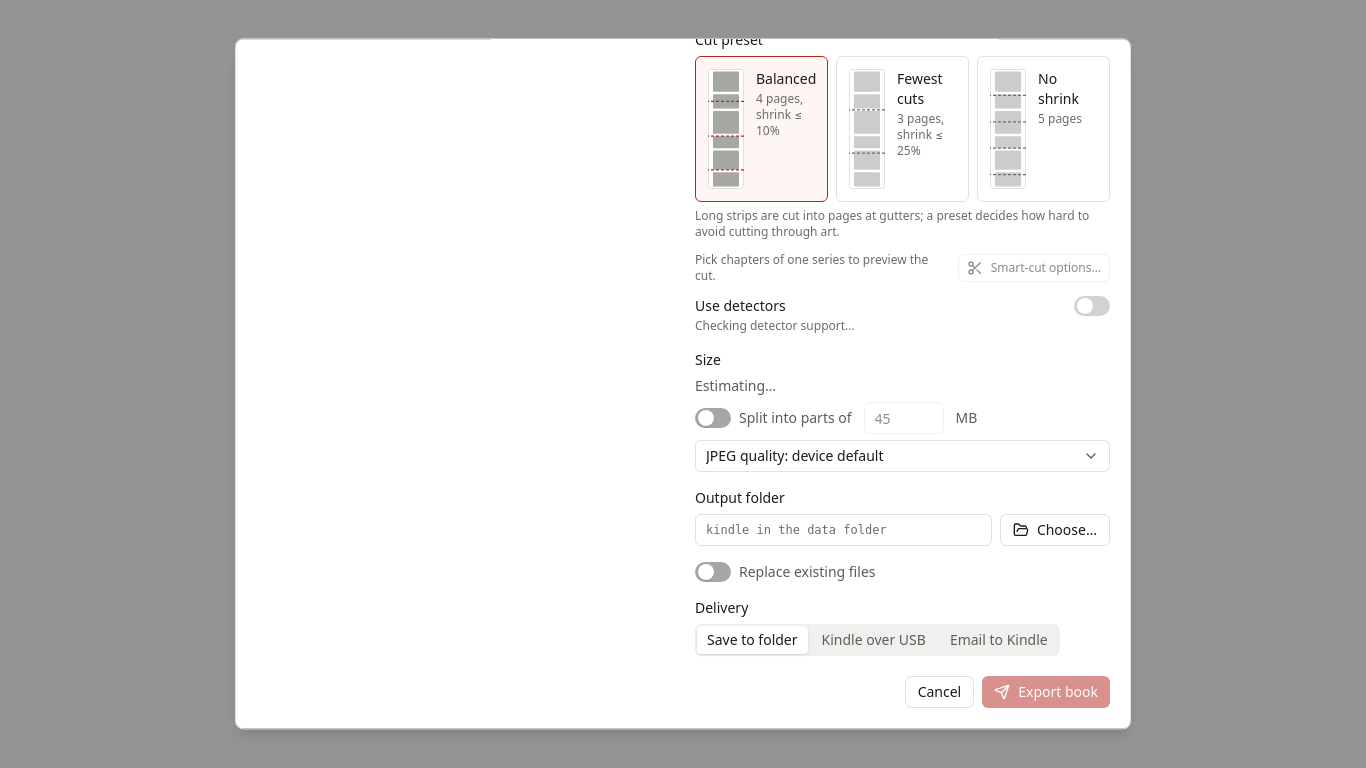
Test: export dialog: the Kindle format follows the delivery › from Save to folder, a picked AZW3 (Kindle) goes by Email as an EPUB, saying why
Later steps or results of the test are not shown.
(page scrolled)
Press the mouse on the tab "Save to folder" at (752, 640), box [697, 626, 808, 654]
(page scrolled)
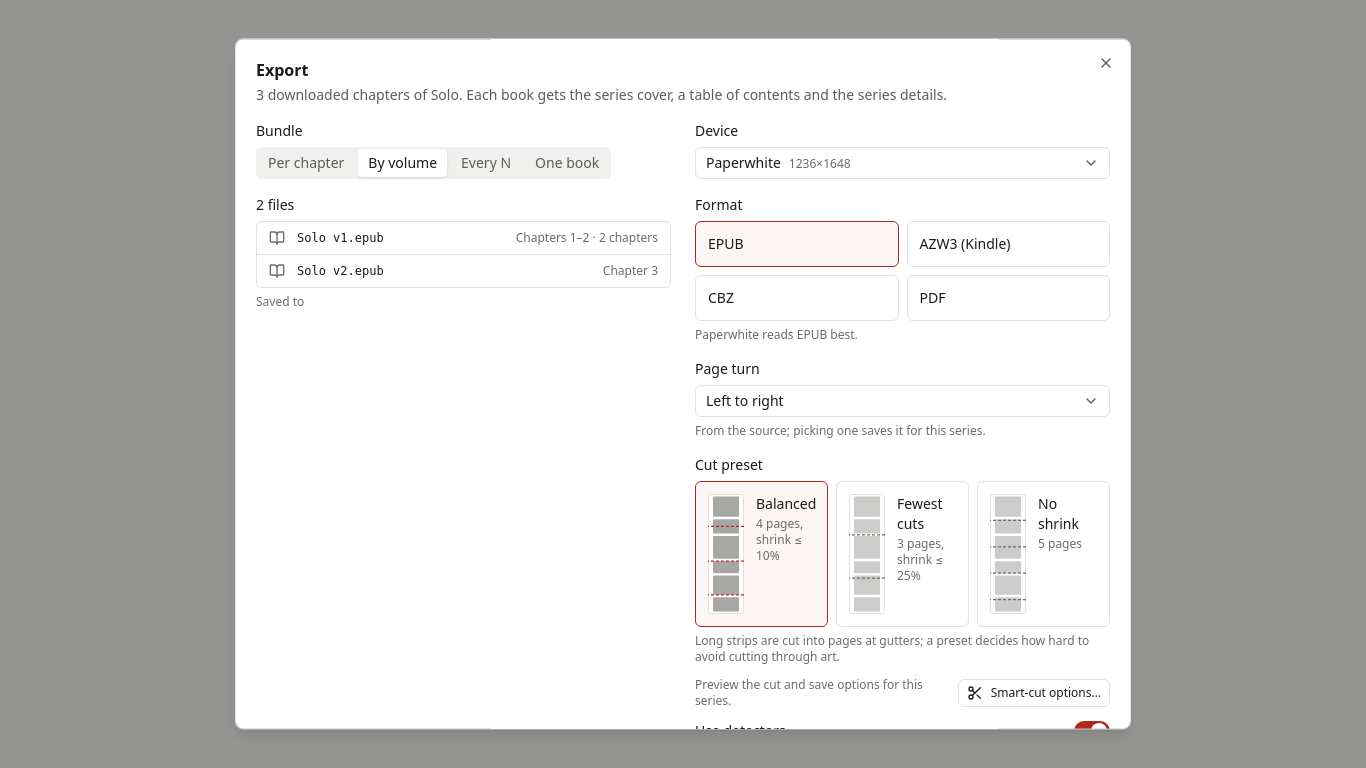
# PDF first, so the pick is the user's even where the route already gave AZW3.
Click the radio button labelled "PDF" at (1008, 298), box [906, 275, 1110, 321]
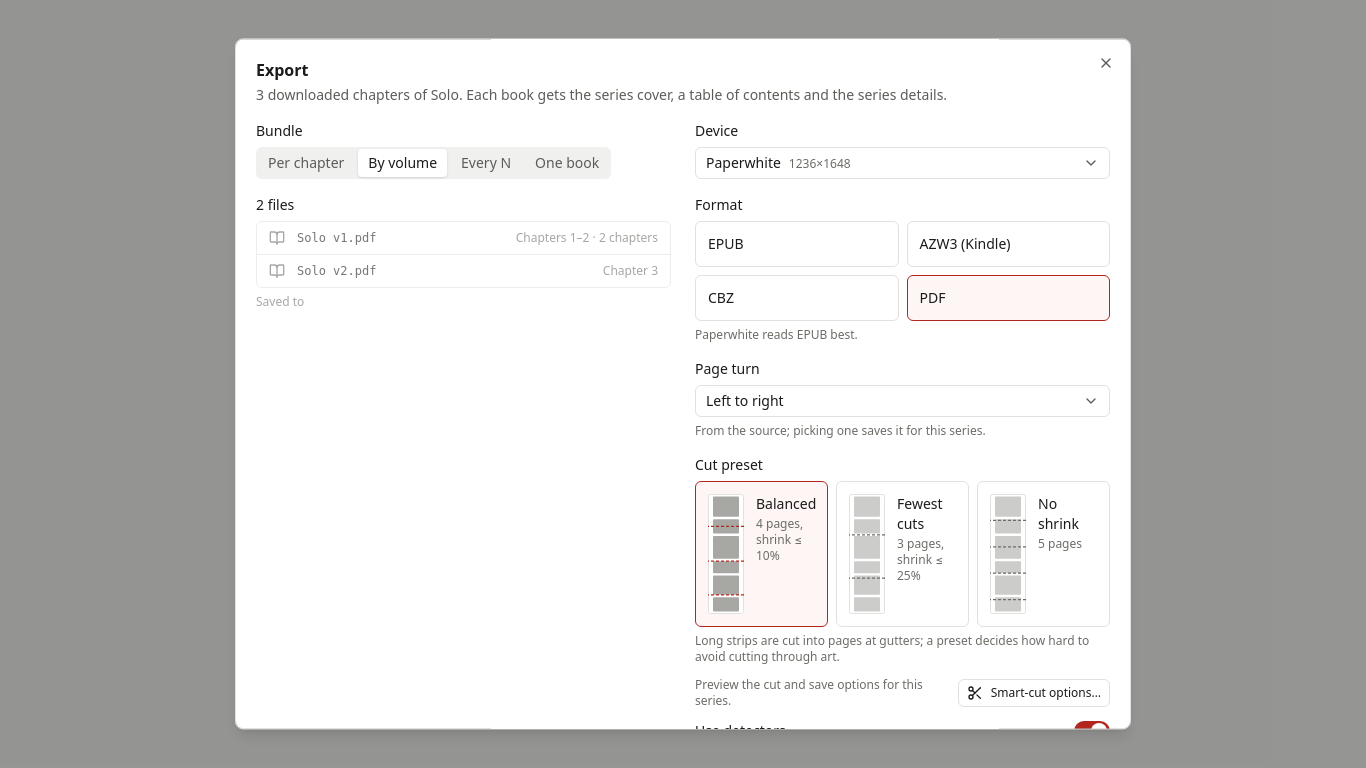
Click the radio button labelled "AZW3 (Kindle)" at (1008, 244), box [906, 221, 1110, 267]
(page scrolled)
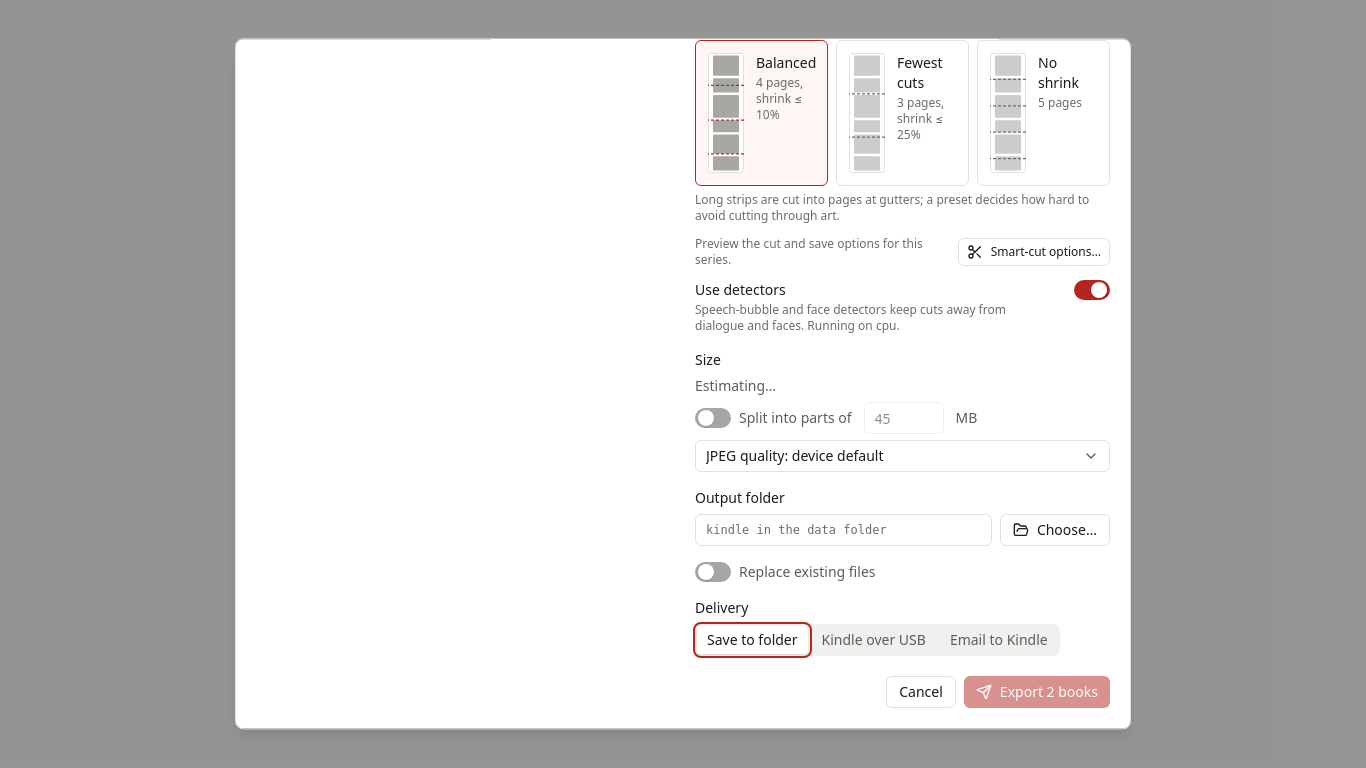
Press the mouse on the tab "Email to Kindle" at (999, 640), box [940, 626, 1058, 654]
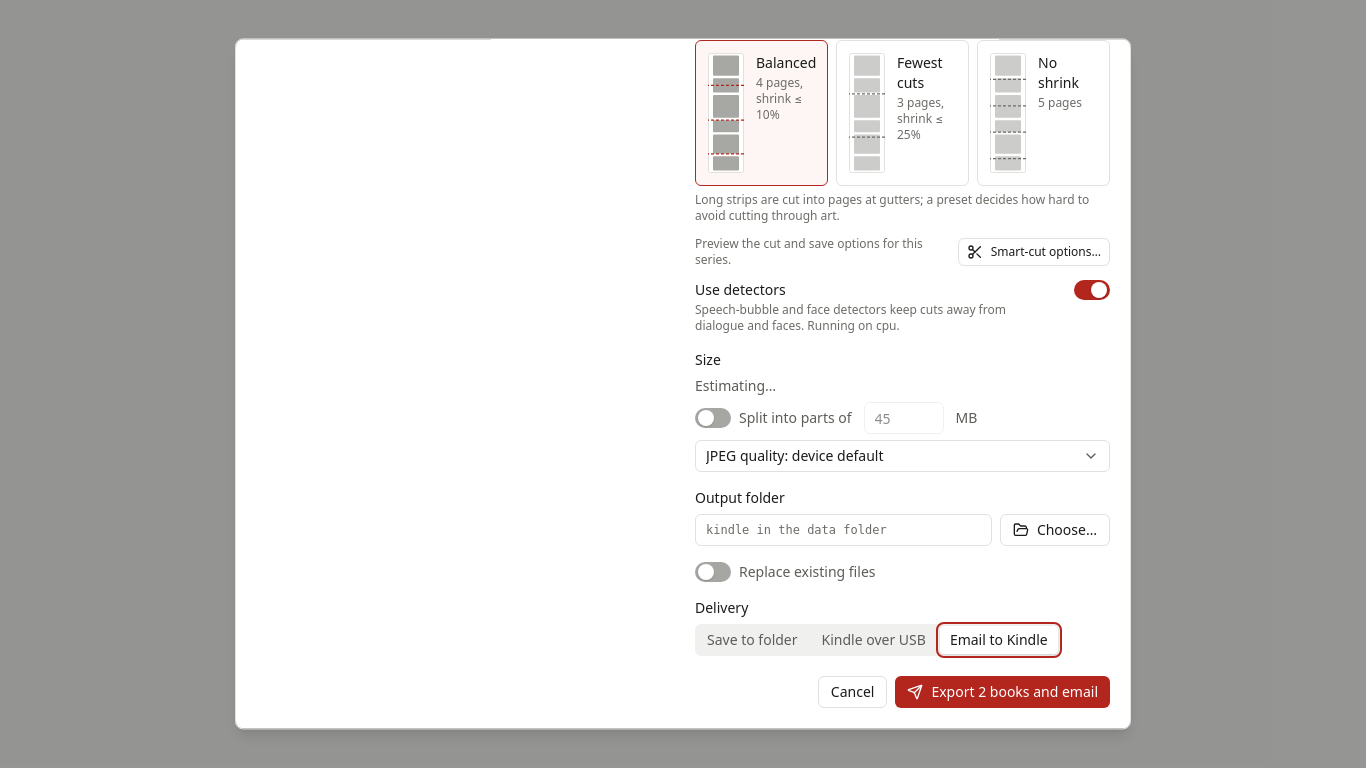
Expected: the button "Export 2 books and email" is enabled, [895, 676, 1110, 708]
